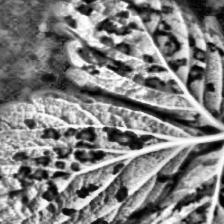Angular Leafspot: (0, 86, 216, 224), (48, 0, 224, 128), (40, 128, 224, 224)
